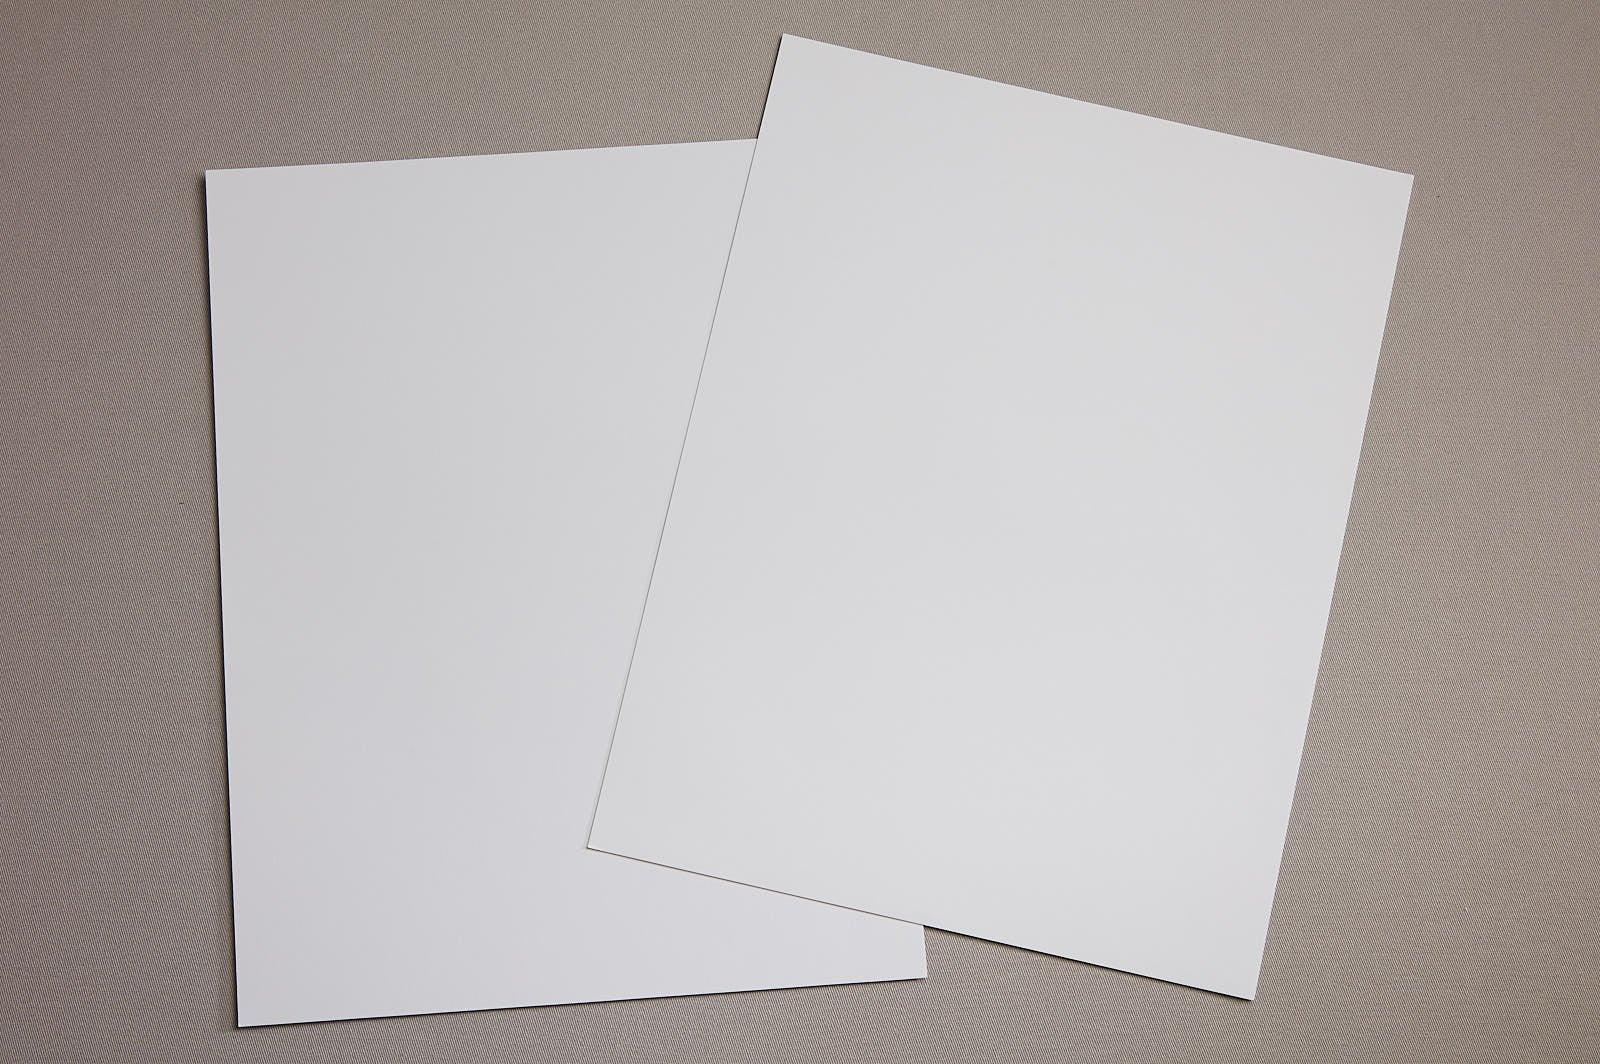plastic: (203, 11, 1439, 1025)
